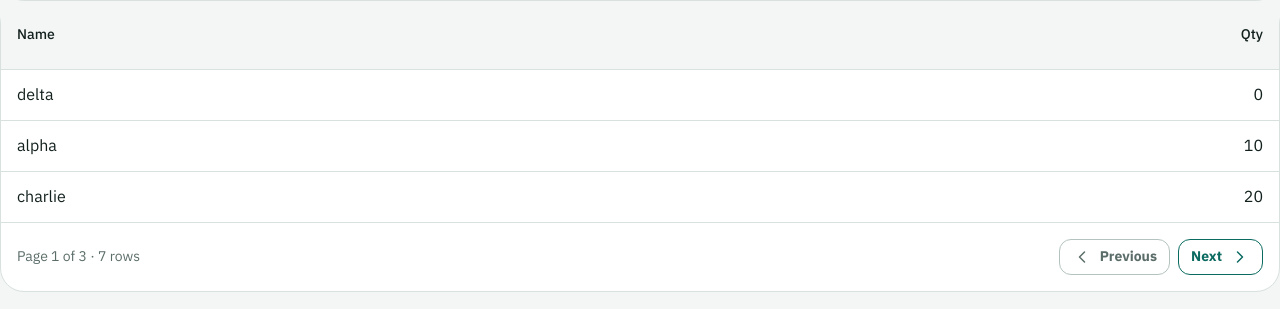
Test: DataTable (client mode) › paginates
The image size is (1280, 309).
Expected: the text "Page 1 of 3 · 7 rows" is shown, left=17, top=247, right=140, bottom=267
Click the button "Next" at x=1220, y=257, box left=1178, top=239, right=1263, bottom=275
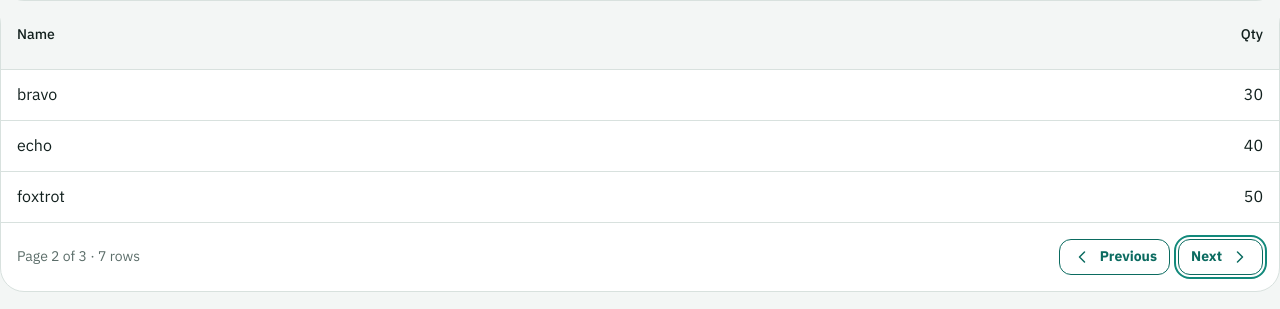
Now the text "Page 2 of 3 · 7 rows" is shown, box left=17, top=247, right=140, bottom=267
Now the button "Previous" is enabled, box left=1059, top=239, right=1170, bottom=275
